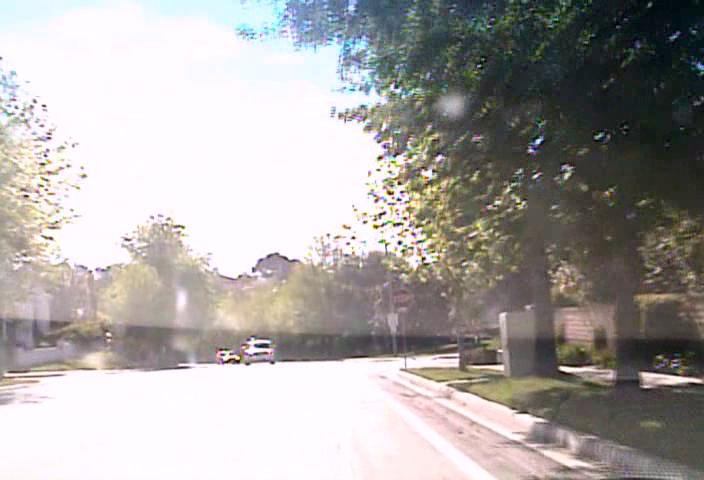stop: (390, 287, 411, 309)
